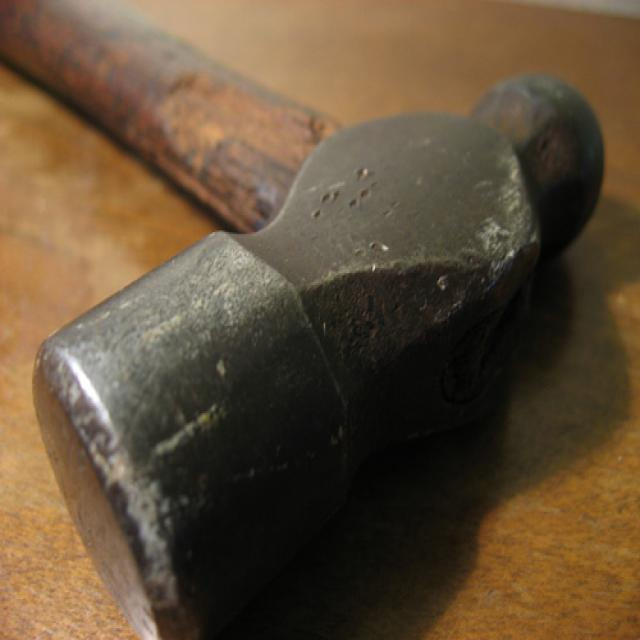hammer: (34, 55, 609, 612)
